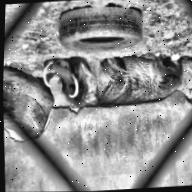boar: (44, 50, 184, 118)
